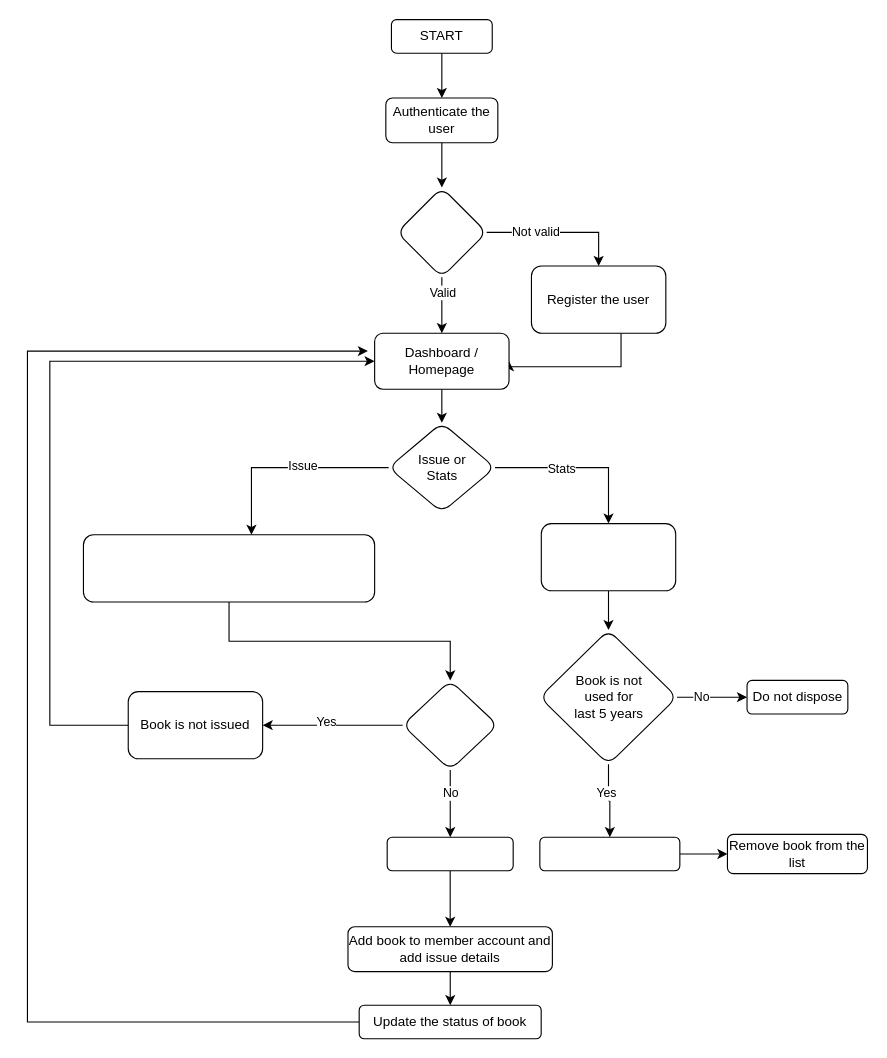
This 887x1058 diagram has some shape labels left out. The centre of each missing label's shape, as x and y in pixels:
"Check category of member and number of books issued by the user" goes at pixel 228 568.
"Check the book usage statistics" goes at pixel 608 556.
"Dispose off the book" goes at pixel 609 853.
"Is valid" goes at pixel 441 231.
"Issue book" goes at pixel 449 853.
"Limit reached" goes at pixel 450 724.
